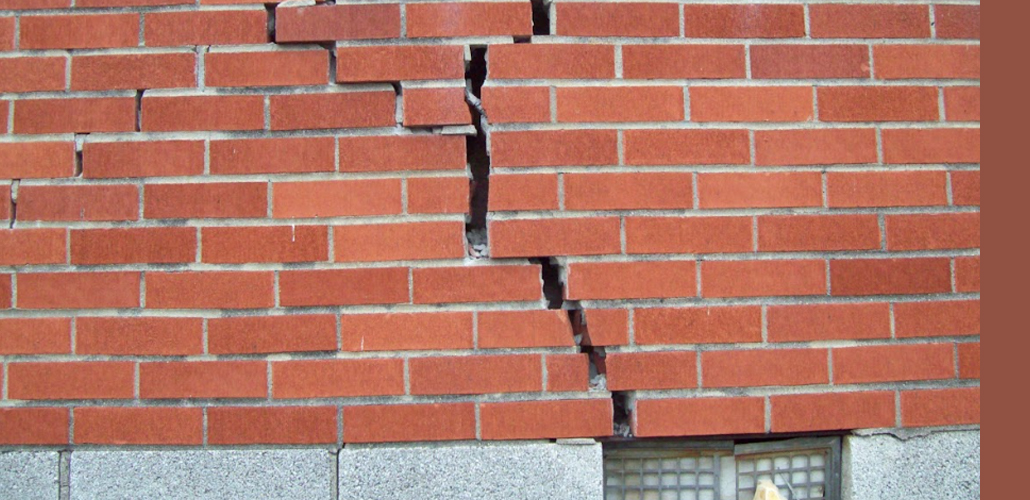stairstep_crack: (247, 0, 686, 438), (3, 74, 161, 232)
